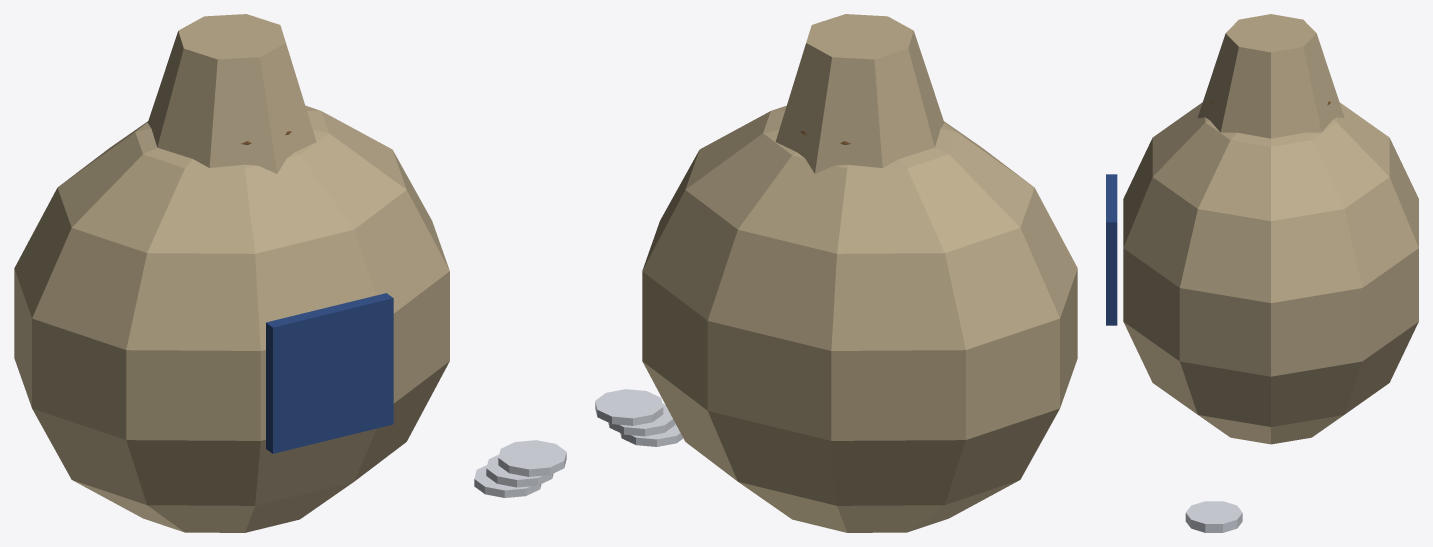
Rendered from silver_bag.glb.
The picture shows the model from 3 angles, left to right: view 1: azimuth 30°, elevation 25°; view 2: azimuth 150°, elevation 25°; view 3: azimuth 270°, elevation 25°; orthographic projection. The views are drawn at different scales.
Parts seen in each view (by area): view 1: sack_bank_canvas, neck_bank_canvas, mark_bank_mark, coins_silver; view 2: sack_bank_canvas, neck_bank_canvas, coins_silver; view 3: sack_bank_canvas, neck_bank_canvas, mark_bank_mark, coins_silver.
Boxes of the visible parts, bbox=[...] form: sack_bank_canvas: bbox=[14, 105, 449, 532]; neck_bank_canvas: bbox=[147, 14, 316, 173]; mark_bank_mark: bbox=[266, 293, 393, 453]; coins_silver: bbox=[474, 440, 566, 497]; sack_bank_canvas: bbox=[642, 105, 1077, 532]; neck_bank_canvas: bbox=[775, 14, 944, 173]; coins_silver: bbox=[595, 389, 683, 446]; sack_bank_canvas: bbox=[1123, 102, 1418, 444]; neck_bank_canvas: bbox=[1197, 14, 1344, 138]; mark_bank_mark: bbox=[1106, 174, 1117, 325]; coins_silver: bbox=[1185, 501, 1242, 532].
Bounding box in the file's own units: 0.4095 × 0.38 × 0.2748.
